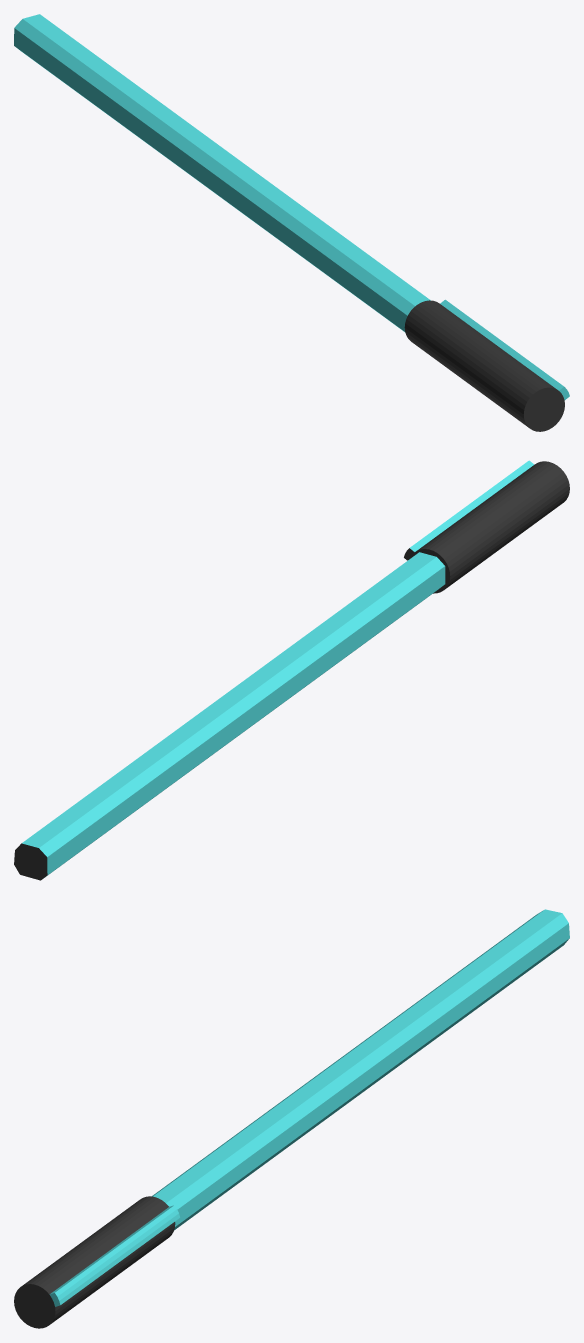
The model's file is saber2.fbx.
3 renders of one model, top to bottom at view 1: azimuth 30°, elevation 25°; view 2: azimuth 150°, elevation 25°; view 3: azimuth 330°, elevation 25°, orthographic.
Parts seen in each view (by area): view 1: Cylinder; view 2: Cylinder; view 3: Cylinder.
Boxes of the visible parts, box(x1,y1,x2,y2) form: Cylinder: box(14, 14, 569, 431); Cylinder: box(14, 460, 569, 880); Cylinder: box(14, 909, 569, 1328).
Size of the model in its own units: 224 by 200 by 4320.
